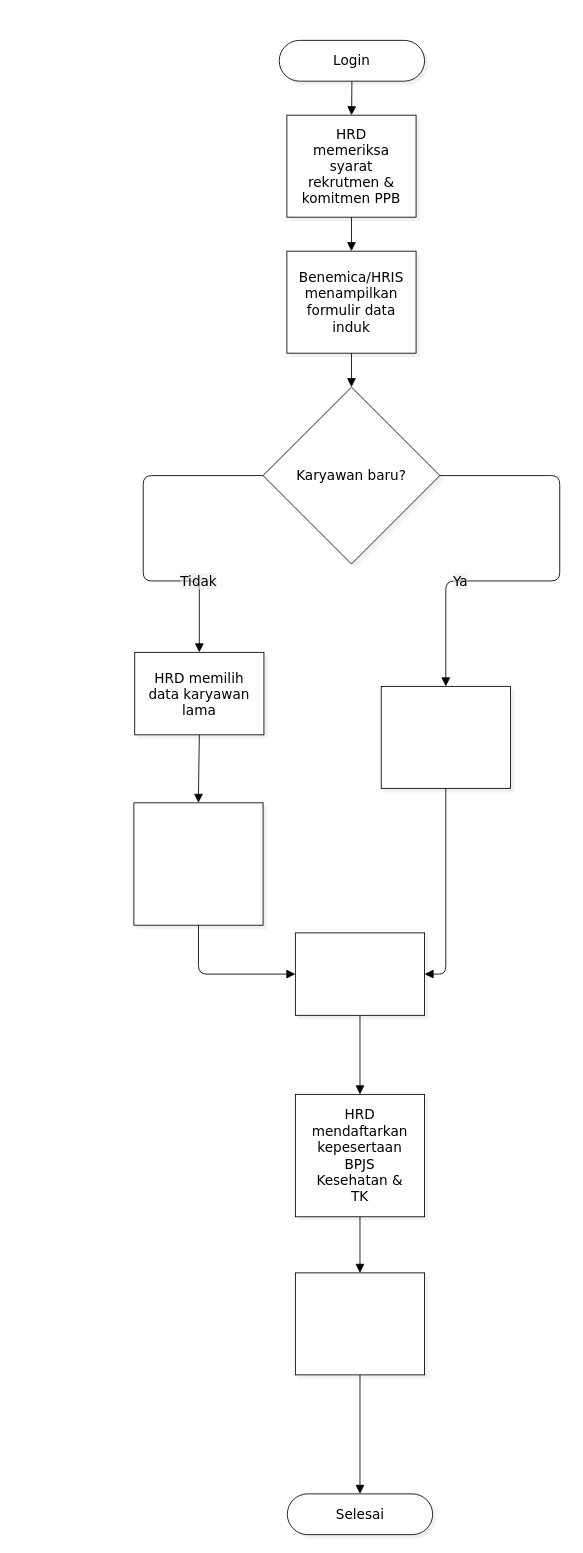
The diagram is 583 pixels wide and 1553 high, and some of its shapes have lost their labels. The shapes that lost their labels are listed below. From the top down, each one's centre as x and y in pixels, then its label:
the point at 447,739: HRD menginput data pegawai baru & status kerja
the point at 199,865: HRD memperbarui status kerja/data pegawai
the point at 361,975: Benemica/HRIS menyimpan data induk pegawai
the point at 361,1325: Data induk pegawai tersedia untuk absensi & gaji
